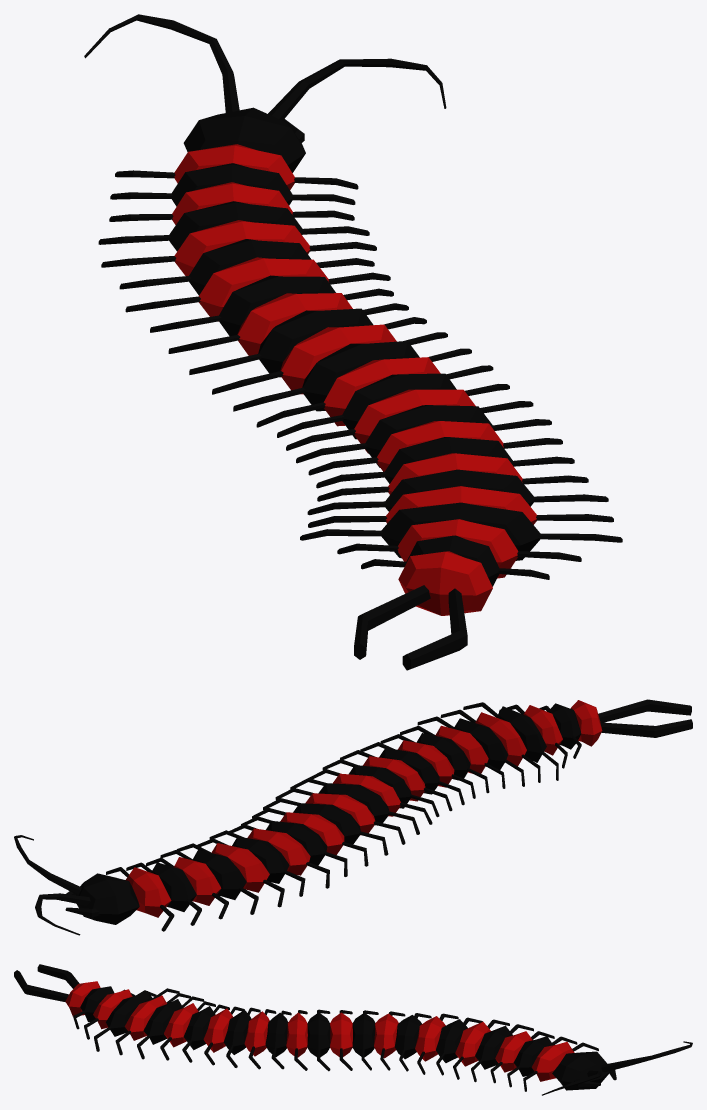
Rendered from Centipede.fbx.
3 views of the same model, one above another, from view 1: azimuth 30°, elevation 25°; view 2: azimuth 150°, elevation 25°; view 3: azimuth 270°, elevation 25° (orthographic). The views are drawn at different scales.
Visible parts, largest first — view 1: group26_pCylinder2; view 2: group26_pCylinder2; view 3: group26_pCylinder2.
Boxes of the visible parts, left/top/right/bottom form: group26_pCylinder2: left=84, top=14, right=622, bottom=670; group26_pCylinder2: left=14, top=699, right=692, bottom=935; group26_pCylinder2: left=14, top=964, right=692, bottom=1095.
Bounding box in the file's own units: 4.57 × 0.6214 × 8.94.
